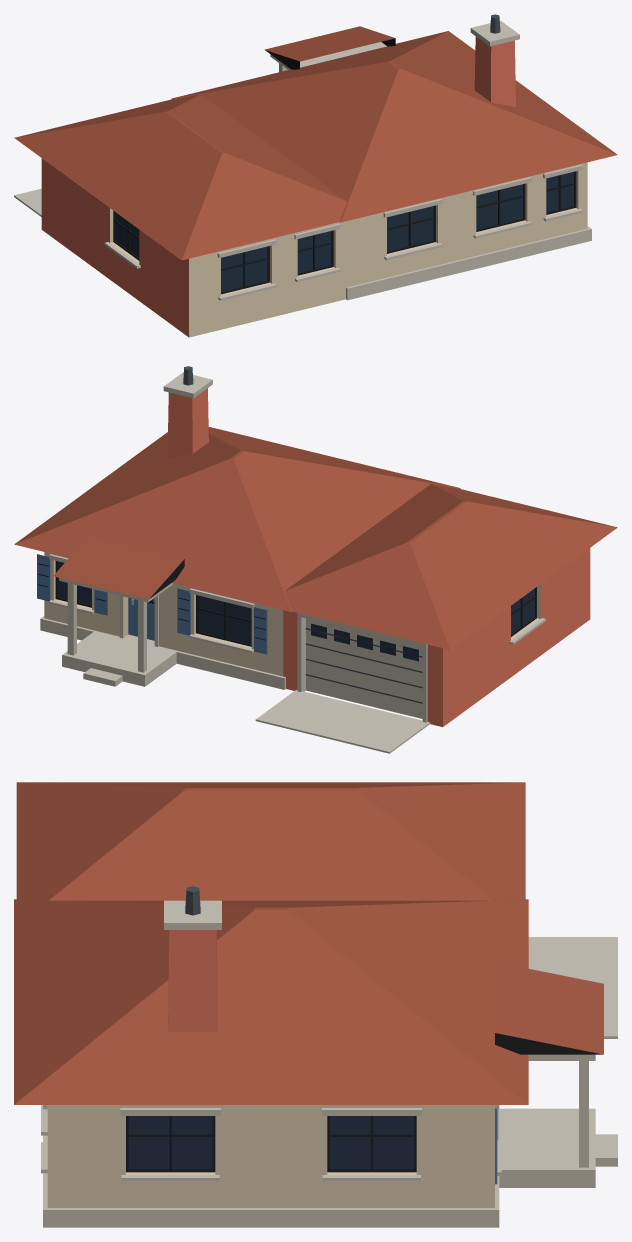
File: bld_house_d.glb
The picture shows the model from 3 angles, top to bottom: view 1: azimuth 30°, elevation 25°; view 2: azimuth 150°, elevation 25°; view 3: azimuth 270°, elevation 25°; orthographic projection. The views are drawn at different scales.
Parts seen in each view (by area): view 1: Body; view 2: Body; view 3: Body.
Boxes of the visible parts, left/top/right/bottom form: Body: left=14, top=14, right=617, bottom=337; Body: left=14, top=366, right=617, bottom=753; Body: left=14, top=782, right=617, bottom=1227.
Size of the model in its own units: 13.65 by 5.99 by 10.8.
